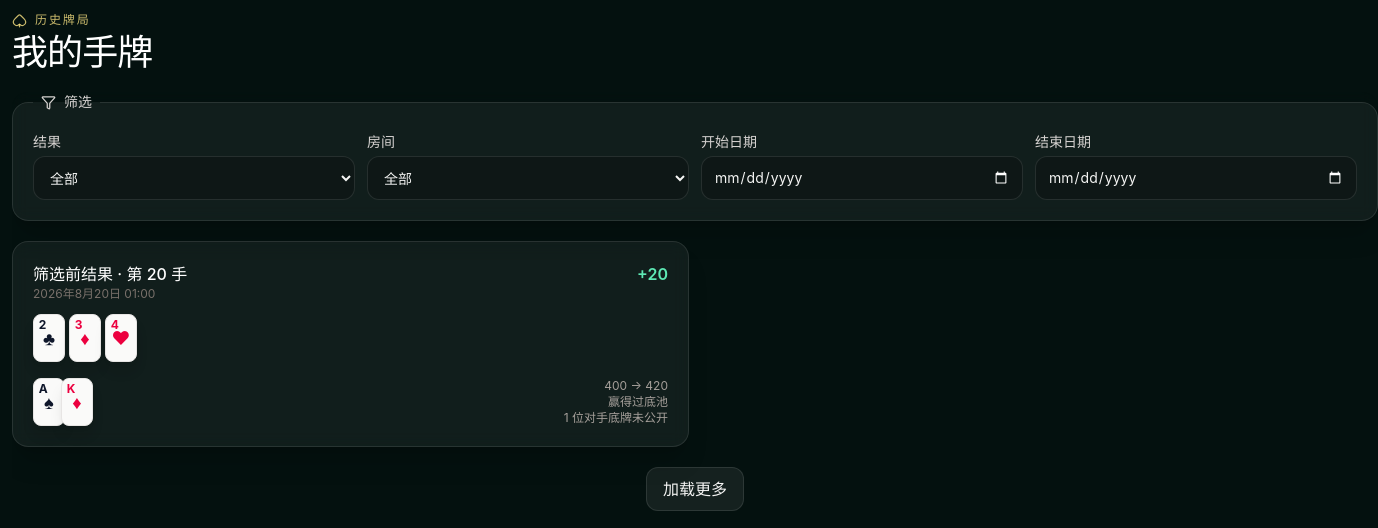
Test case: HandsPage history pagination and filters › does not append an old cursor page after filters change
The image size is (1378, 528).
Click the button "加载更多" at (695, 489), box [646,467,744,511]
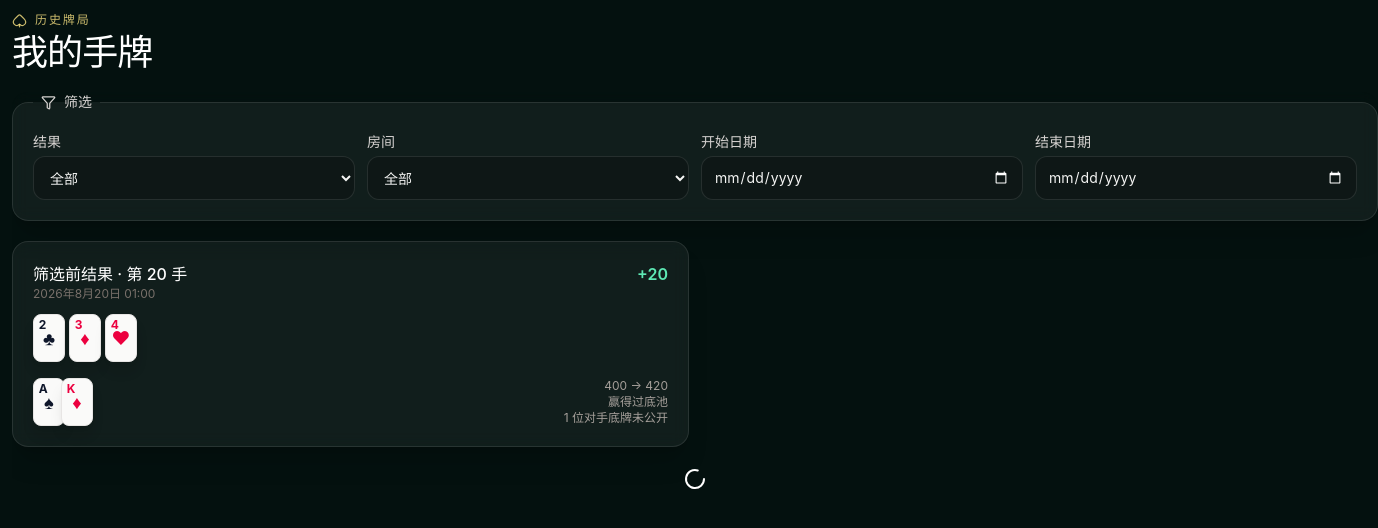
Select "亏损" in the dropdown labelled "结果" at (194, 178), box [33,156,355,200]
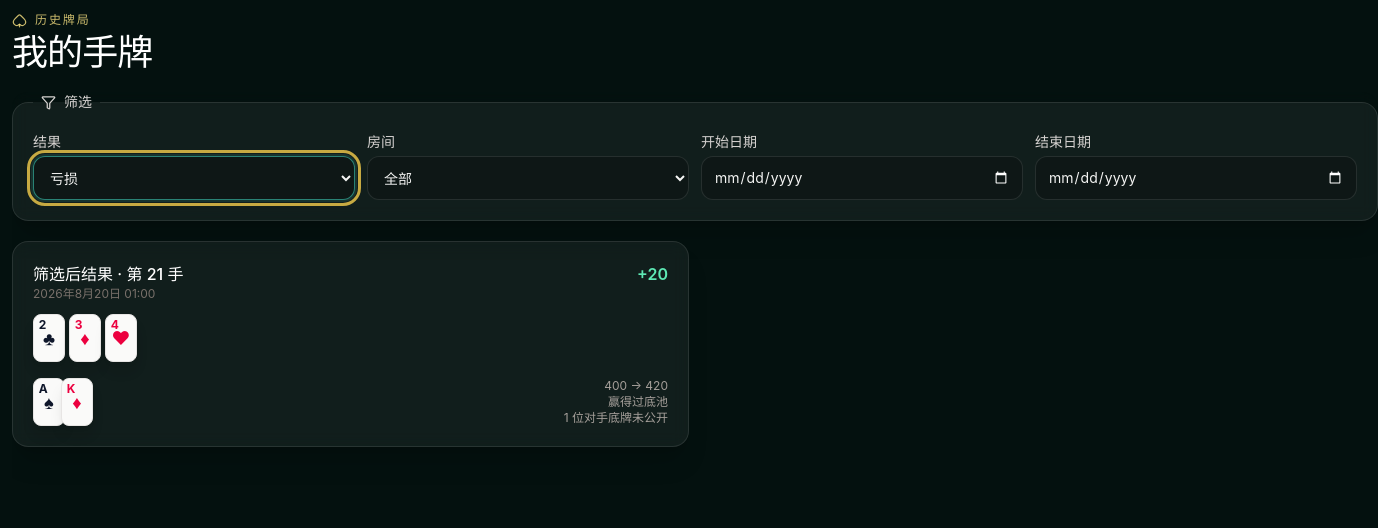
Now the text "筛选后结果 · 第 21 手" is shown, box [33,262,184,286]
